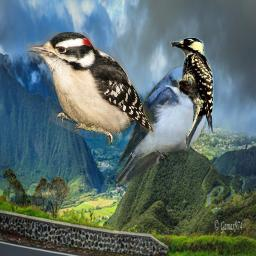Swallow: (112, 65, 210, 186)
Woodpecker: (24, 32, 155, 147), (169, 37, 216, 149)
